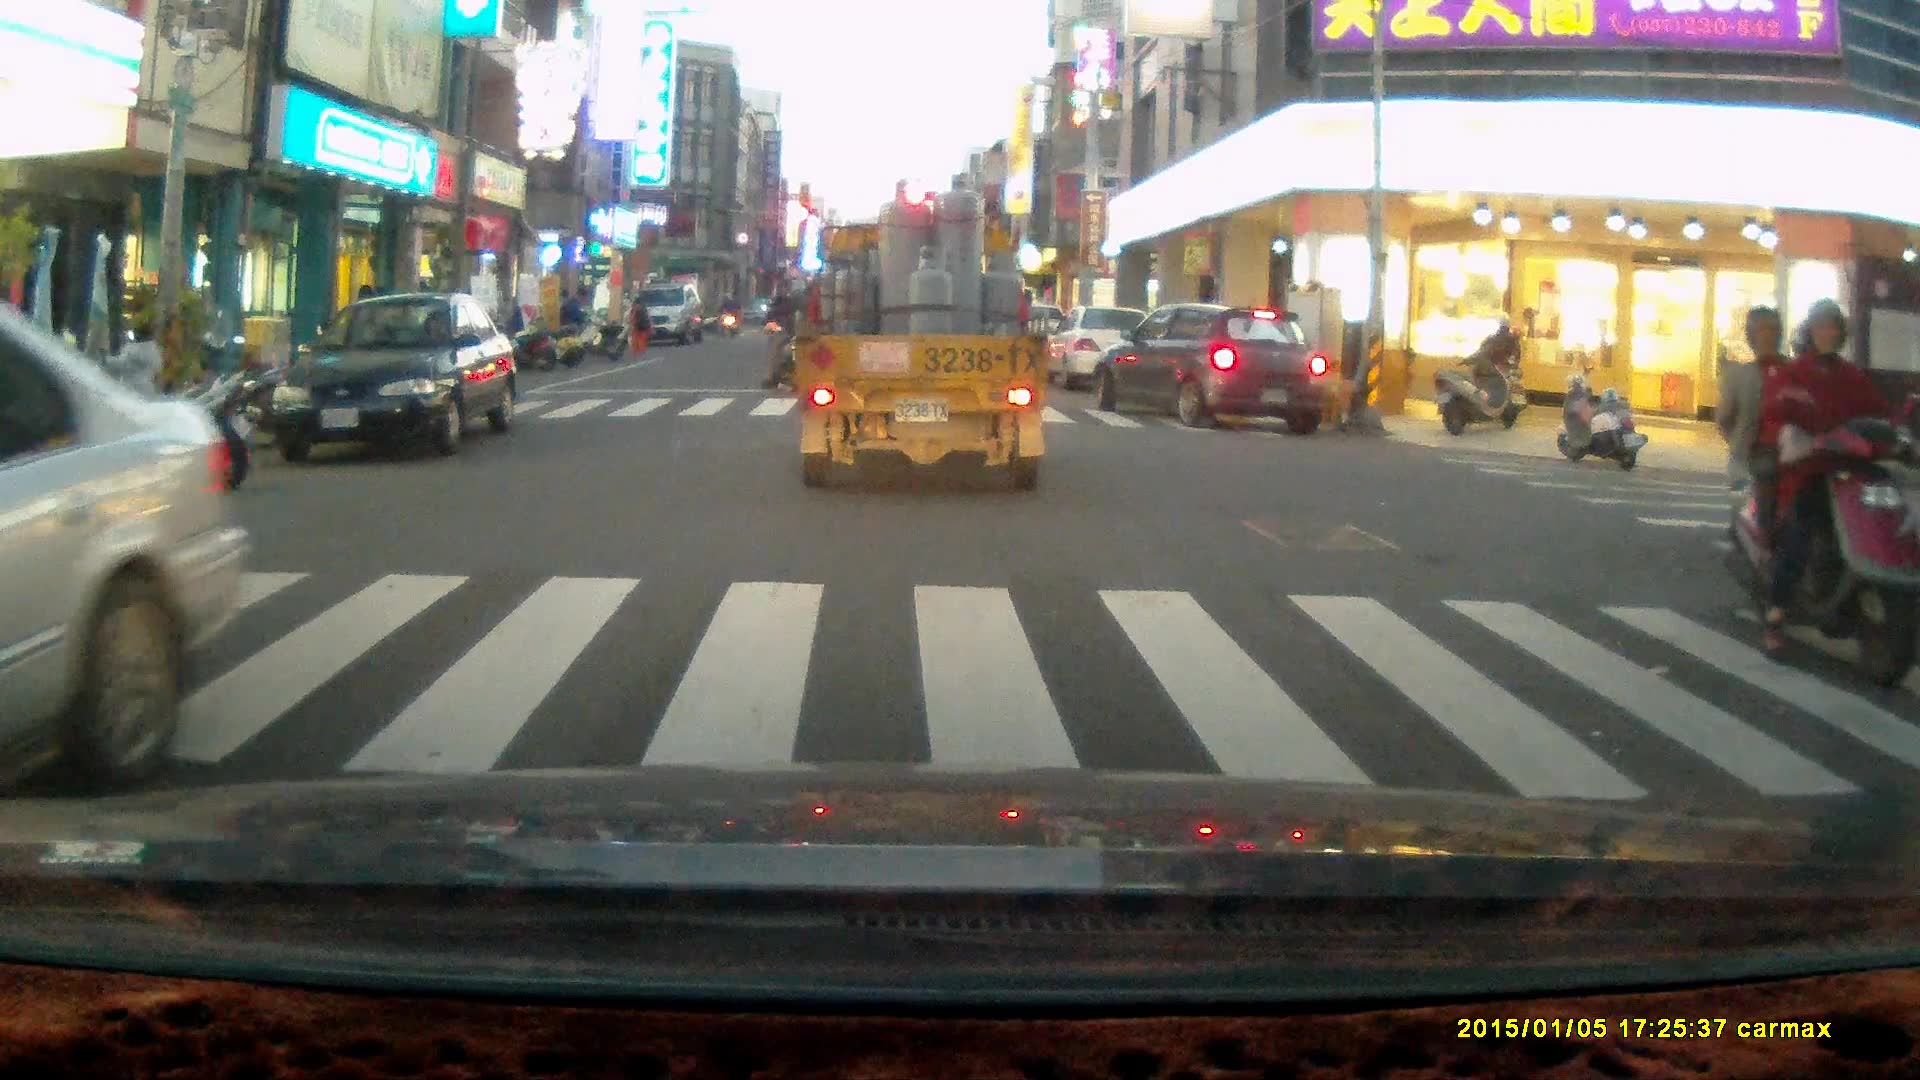pedestrian: (102, 317, 166, 462), (558, 285, 587, 352), (625, 296, 648, 356)
rider: (1718, 294, 1914, 690), (761, 263, 818, 392), (1470, 310, 1528, 430)
vehicle: (1, 314, 244, 812), (790, 169, 1058, 491), (277, 292, 518, 460), (1092, 305, 1326, 431), (1046, 307, 1170, 397), (624, 280, 700, 341)
